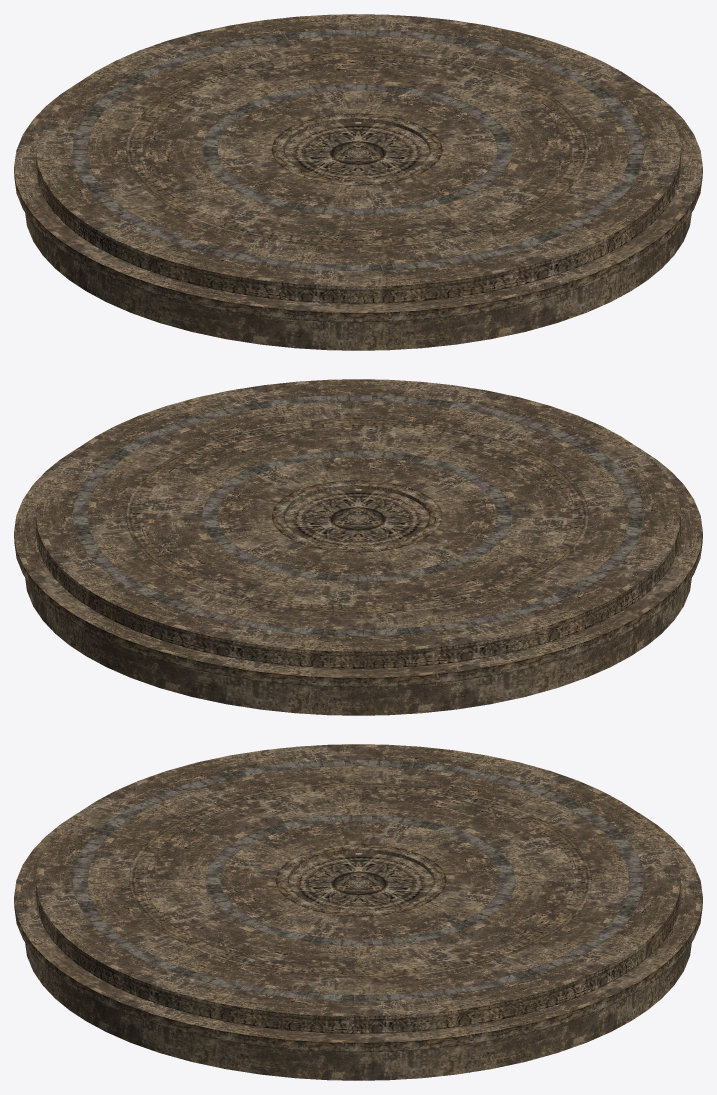
The model's file is materials_5_floor_round_2.fbx.
3 views of the same model, one above another, from view 1: azimuth 30°, elevation 25°; view 2: azimuth 150°, elevation 25°; view 3: azimuth 270°, elevation 25° (orthographic).
Parts seen in each view (by area): view 1: materials_5_floor_round_2; view 2: materials_5_floor_round_2; view 3: materials_5_floor_round_2.
Part boxes in pixels (left/top/right/bottom): materials_5_floor_round_2: left=14, top=14, right=702, bottom=350; materials_5_floor_round_2: left=14, top=379, right=702, bottom=715; materials_5_floor_round_2: left=14, top=744, right=702, bottom=1080.
Size of the model in its own units: 740 by 70.23 by 740.
